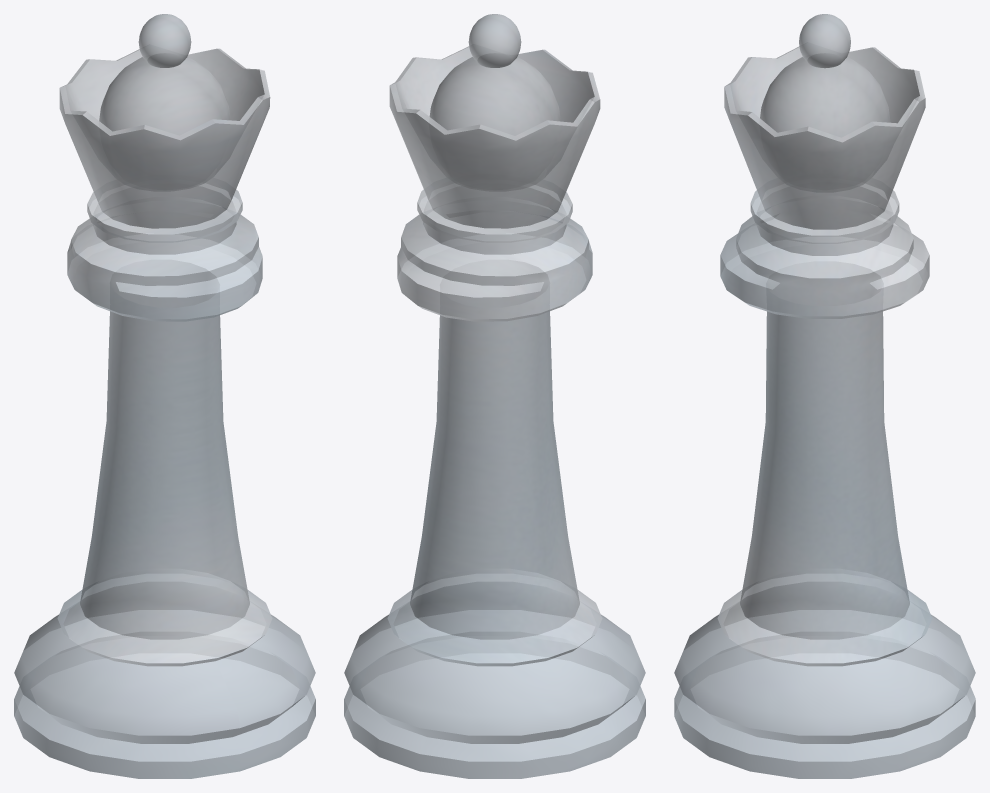
Rendered from Queen.glb.
3 renders of one model, left to right at view 1: azimuth 30°, elevation 25°; view 2: azimuth 150°, elevation 25°; view 3: azimuth 270°, elevation 25°, orthographic.
Parts seen in each view (by area): view 1: Chess_07 - Default_0; view 2: Chess_07 - Default_0; view 3: Chess_07 - Default_0.
Part boxes in pixels (<box>): Chess_07 - Default_0: <box>14,14,315,778</box>; Chess_07 - Default_0: <box>344,14,645,778</box>; Chess_07 - Default_0: <box>674,14,975,778</box>.
Size of the model in its own units: 0.4458 by 1.18 by 0.4527.
1 material, 1 textured.
